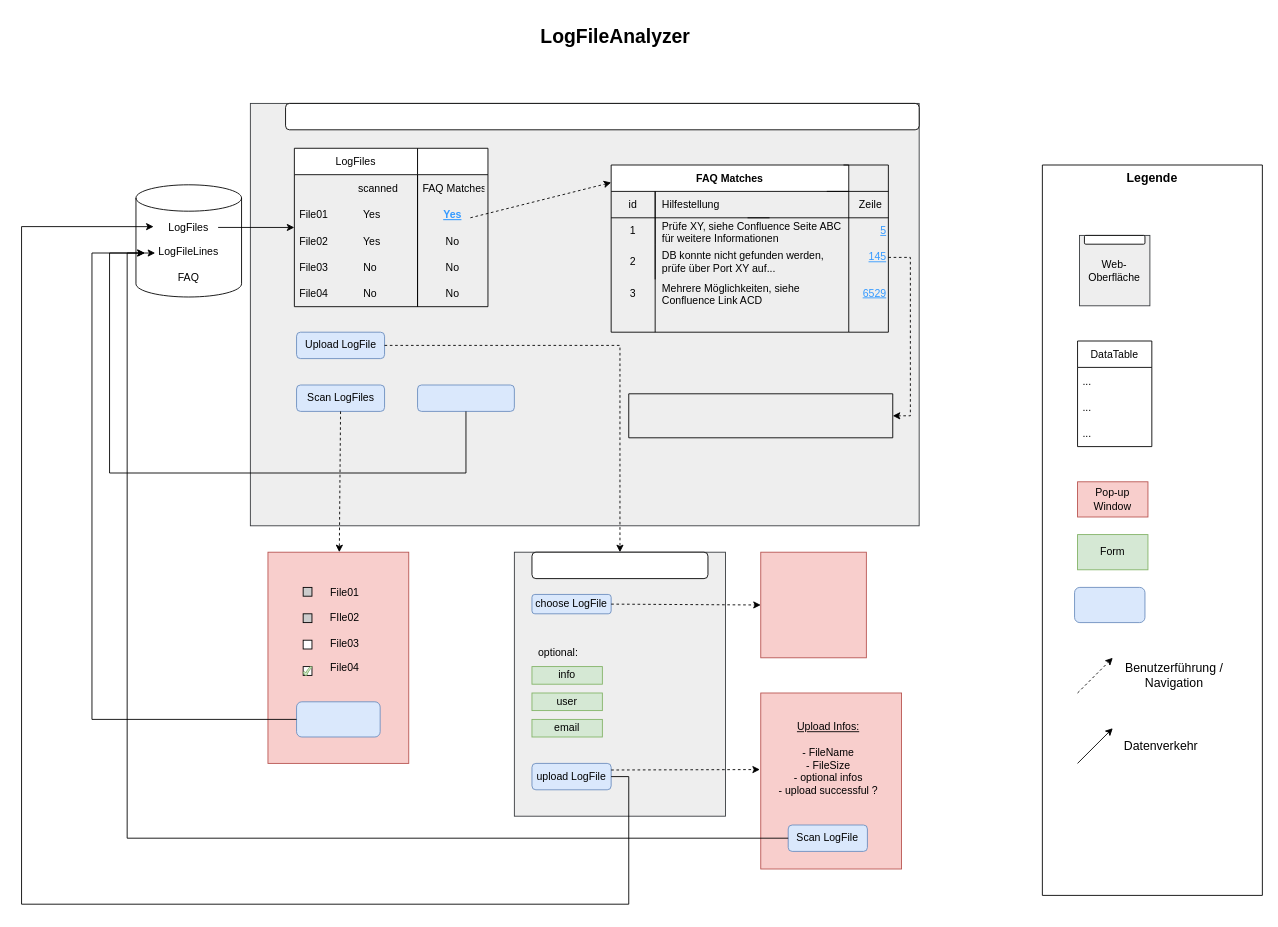
The diagram is 1278 pixels wide and 927 high, and some of its shapes have lost their labels. Here are the shapes that lost their labels. From the top down, the centre of each, then its label:
the point at 602,116: http://.../LogFileAnalyzer/LogFiles
the point at 465,397: Scan all unscanned
the point at 760,415: 2022-09-27 16:53:10 [...]: ...: Database not found
the point at 619,565: http://.../uploadLogFile
the point at 813,604: Local File Browser
the point at 1109,605: Button
the point at 338,719: scan selected LogFiles
